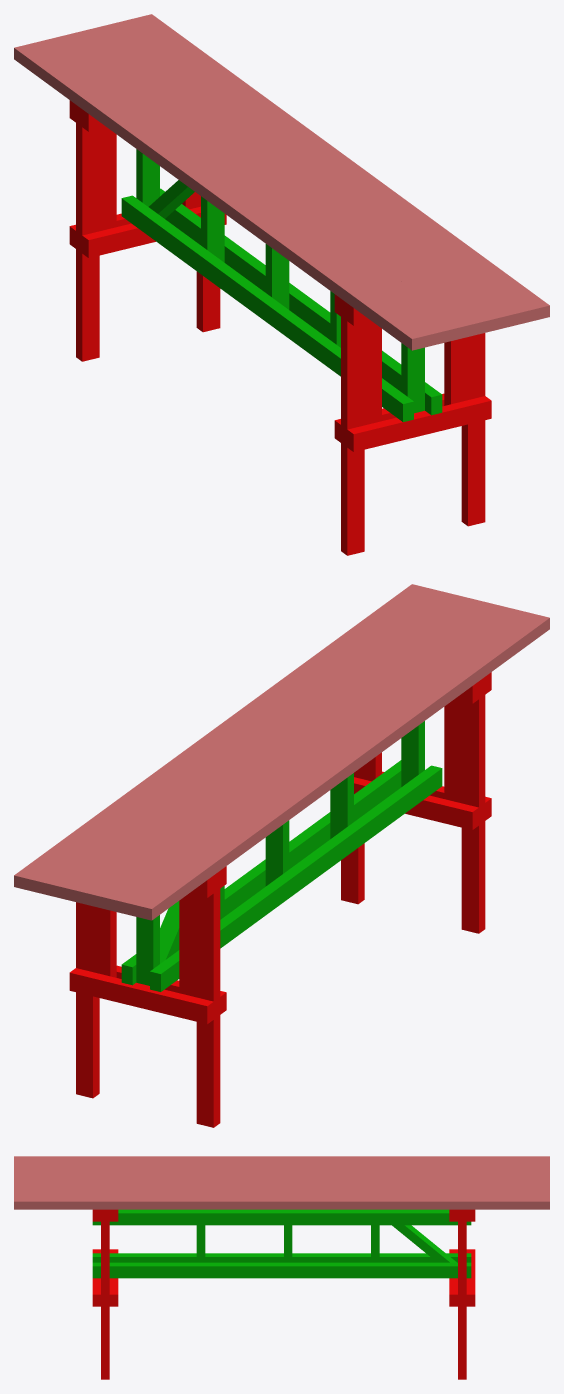
The model's file is result.glb.
3 renders of one model, top to bottom at view 1: azimuth 30°, elevation 25°; view 2: azimuth 150°, elevation 25°; view 3: azimuth 270°, elevation 25°, orthographic. The views are drawn at different scales.
Parts seen in each view (by area): view 1: 20adfa94-b8d7-4a6c-b3ca-23eb162607b7__Box, ba0e8ca2-a2bf-4c8e-a763-a65d87ca144d__strutH, f019cabc-4eca-41e8-807e-8d7ab2159542__undefined, d43a54de-a9cb-4883-bc28-08008cc32ea0__undefined, 29642eb6-ef78-4eb7-b39d-38c0b8fc956e__undefined, 38d60319-13bf-4b68-a707-34b2807ae7ee__undefined, ae6fb01e-a4f3-4162-8b90-f7b7c4baaa37__undefined, 3061f086-ce1d-4b41-abc3-1ddc6cd2ba0b__undefined, 09f74df6-3a87-436a-a414-5533e91bbef6__undefined, df2426d0-2275-4ef5-98c4-c0c25a8584e1__undefined, 9a23387d-9da0-476e-adaa-0b3cebfd057e__sideV, a79b0741-d2a6-40ac-a24b-42e6ca81ab08__strutH (+12 smaller); view 2: 20adfa94-b8d7-4a6c-b3ca-23eb162607b7__Box, ba0e8ca2-a2bf-4c8e-a763-a65d87ca144d__strutH, f019cabc-4eca-41e8-807e-8d7ab2159542__undefined, 38d60319-13bf-4b68-a707-34b2807ae7ee__undefined, 29642eb6-ef78-4eb7-b39d-38c0b8fc956e__undefined, d43a54de-a9cb-4883-bc28-08008cc32ea0__undefined, 3061f086-ce1d-4b41-abc3-1ddc6cd2ba0b__undefined, ae6fb01e-a4f3-4162-8b90-f7b7c4baaa37__undefined, 09f74df6-3a87-436a-a414-5533e91bbef6__undefined, df2426d0-2275-4ef5-98c4-c0c25a8584e1__undefined, 9a23387d-9da0-476e-adaa-0b3cebfd057e__sideV, a79b0741-d2a6-40ac-a24b-42e6ca81ab08__strutH (+12 smaller); view 3: 09f74df6-3a87-436a-a414-5533e91bbef6__undefined, a79b0741-d2a6-40ac-a24b-42e6ca81ab08__strutH, 82faccd9-1cc7-4103-9a40-b4c7928c283d__strutH, 3061f086-ce1d-4b41-abc3-1ddc6cd2ba0b__undefined, ae6fb01e-a4f3-4162-8b90-f7b7c4baaa37__undefined, 20adfa94-b8d7-4a6c-b3ca-23eb162607b7__Box, f019cabc-4eca-41e8-807e-8d7ab2159542__undefined, d43a54de-a9cb-4883-bc28-08008cc32ea0__undefined, 38d60319-13bf-4b68-a707-34b2807ae7ee__undefined, 29642eb6-ef78-4eb7-b39d-38c0b8fc956e__undefined, ba0e8ca2-a2bf-4c8e-a763-a65d87ca144d__strutH, 4832f8ce-d7ab-47b1-8374-feb95052e36a__sideV (+9 smaller).
Part boxes in pixels (<box>): 20adfa94-b8d7-4a6c-b3ca-23eb162607b7__Box: <box>14,43,429,350</box>; ba0e8ca2-a2bf-4c8e-a763-a65d87ca144d__strutH: <box>121,195,413,421</box>; f019cabc-4eca-41e8-807e-8d7ab2159542__undefined: <box>31,39,446,346</box>; d43a54de-a9cb-4883-bc28-08008cc32ea0__undefined: <box>66,31,480,337</box>; 29642eb6-ef78-4eb7-b39d-38c0b8fc956e__undefined: <box>117,18,532,325</box>; 38d60319-13bf-4b68-a707-34b2807ae7ee__undefined: <box>83,27,498,333</box>; ae6fb01e-a4f3-4162-8b90-f7b7c4baaa37__undefined: <box>100,22,515,329</box>; 3061f086-ce1d-4b41-abc3-1ddc6cd2ba0b__undefined: <box>49,35,463,341</box>; 09f74df6-3a87-436a-a414-5533e91bbef6__undefined: <box>135,14,549,320</box>; df2426d0-2275-4ef5-98c4-c0c25a8584e1__undefined: <box>76,105,99,361</box>; 9a23387d-9da0-476e-adaa-0b3cebfd057e__sideV: <box>341,299,364,555</box>; a79b0741-d2a6-40ac-a24b-42e6ca81ab08__strutH: <box>160,188,442,415</box>; 20adfa94-b8d7-4a6c-b3ca-23eb162607b7__Box: <box>134,613,549,920</box>; ba0e8ca2-a2bf-4c8e-a763-a65d87ca144d__strutH: <box>150,765,442,991</box>; f019cabc-4eca-41e8-807e-8d7ab2159542__undefined: <box>117,609,532,916</box>; 38d60319-13bf-4b68-a707-34b2807ae7ee__undefined: <box>65,597,480,903</box>; 29642eb6-ef78-4eb7-b39d-38c0b8fc956e__undefined: <box>31,588,446,895</box>; d43a54de-a9cb-4883-bc28-08008cc32ea0__undefined: <box>83,601,497,907</box>; 3061f086-ce1d-4b41-abc3-1ddc6cd2ba0b__undefined: <box>100,605,514,911</box>; ae6fb01e-a4f3-4162-8b90-f7b7c4baaa37__undefined: <box>48,592,463,899</box>; 09f74df6-3a87-436a-a414-5533e91bbef6__undefined: <box>14,584,428,890</box>; df2426d0-2275-4ef5-98c4-c0c25a8584e1__undefined: <box>196,871,220,1127</box>; 9a23387d-9da0-476e-adaa-0b3cebfd057e__sideV: <box>461,677,485,933</box>; a79b0741-d2a6-40ac-a24b-42e6ca81ab08__strutH: <box>121,760,401,985</box>; 09f74df6-3a87-436a-a414-5533e91bbef6__undefined: <box>14,1196,549,1209</box>; a79b0741-d2a6-40ac-a24b-42e6ca81ab08__strutH: <box>92,1262,471,1278</box>; 82faccd9-1cc7-4103-9a40-b4c7928c283d__strutH: <box>92,1209,471,1225</box>; 3061f086-ce1d-4b41-abc3-1ddc6cd2ba0b__undefined: <box>14,1167,549,1173</box>; ae6fb01e-a4f3-4162-8b90-f7b7c4baaa37__undefined: <box>14,1184,549,1190</box>; 20adfa94-b8d7-4a6c-b3ca-23eb162607b7__Box: <box>14,1156,549,1161</box>; f019cabc-4eca-41e8-807e-8d7ab2159542__undefined: <box>14,1162,549,1167</box>; d43a54de-a9cb-4883-bc28-08008cc32ea0__undefined: <box>14,1173,549,1178</box>; 38d60319-13bf-4b68-a707-34b2807ae7ee__undefined: <box>14,1179,549,1184</box>; 29642eb6-ef78-4eb7-b39d-38c0b8fc956e__undefined: <box>14,1190,549,1195</box>; ba0e8ca2-a2bf-4c8e-a763-a65d87ca144d__strutH: <box>92,1253,471,1262</box>; 4832f8ce-d7ab-47b1-8374-feb95052e36a__sideV: <box>101,1209,109,1379</box>.
Bounding box in the file's own units: 400 × 732 × 2000.
